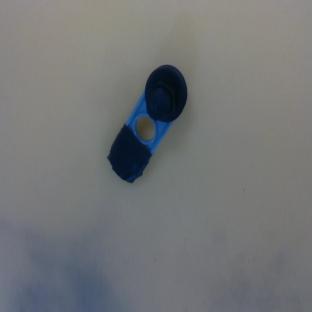part_1_bad: (95, 58, 199, 186)
